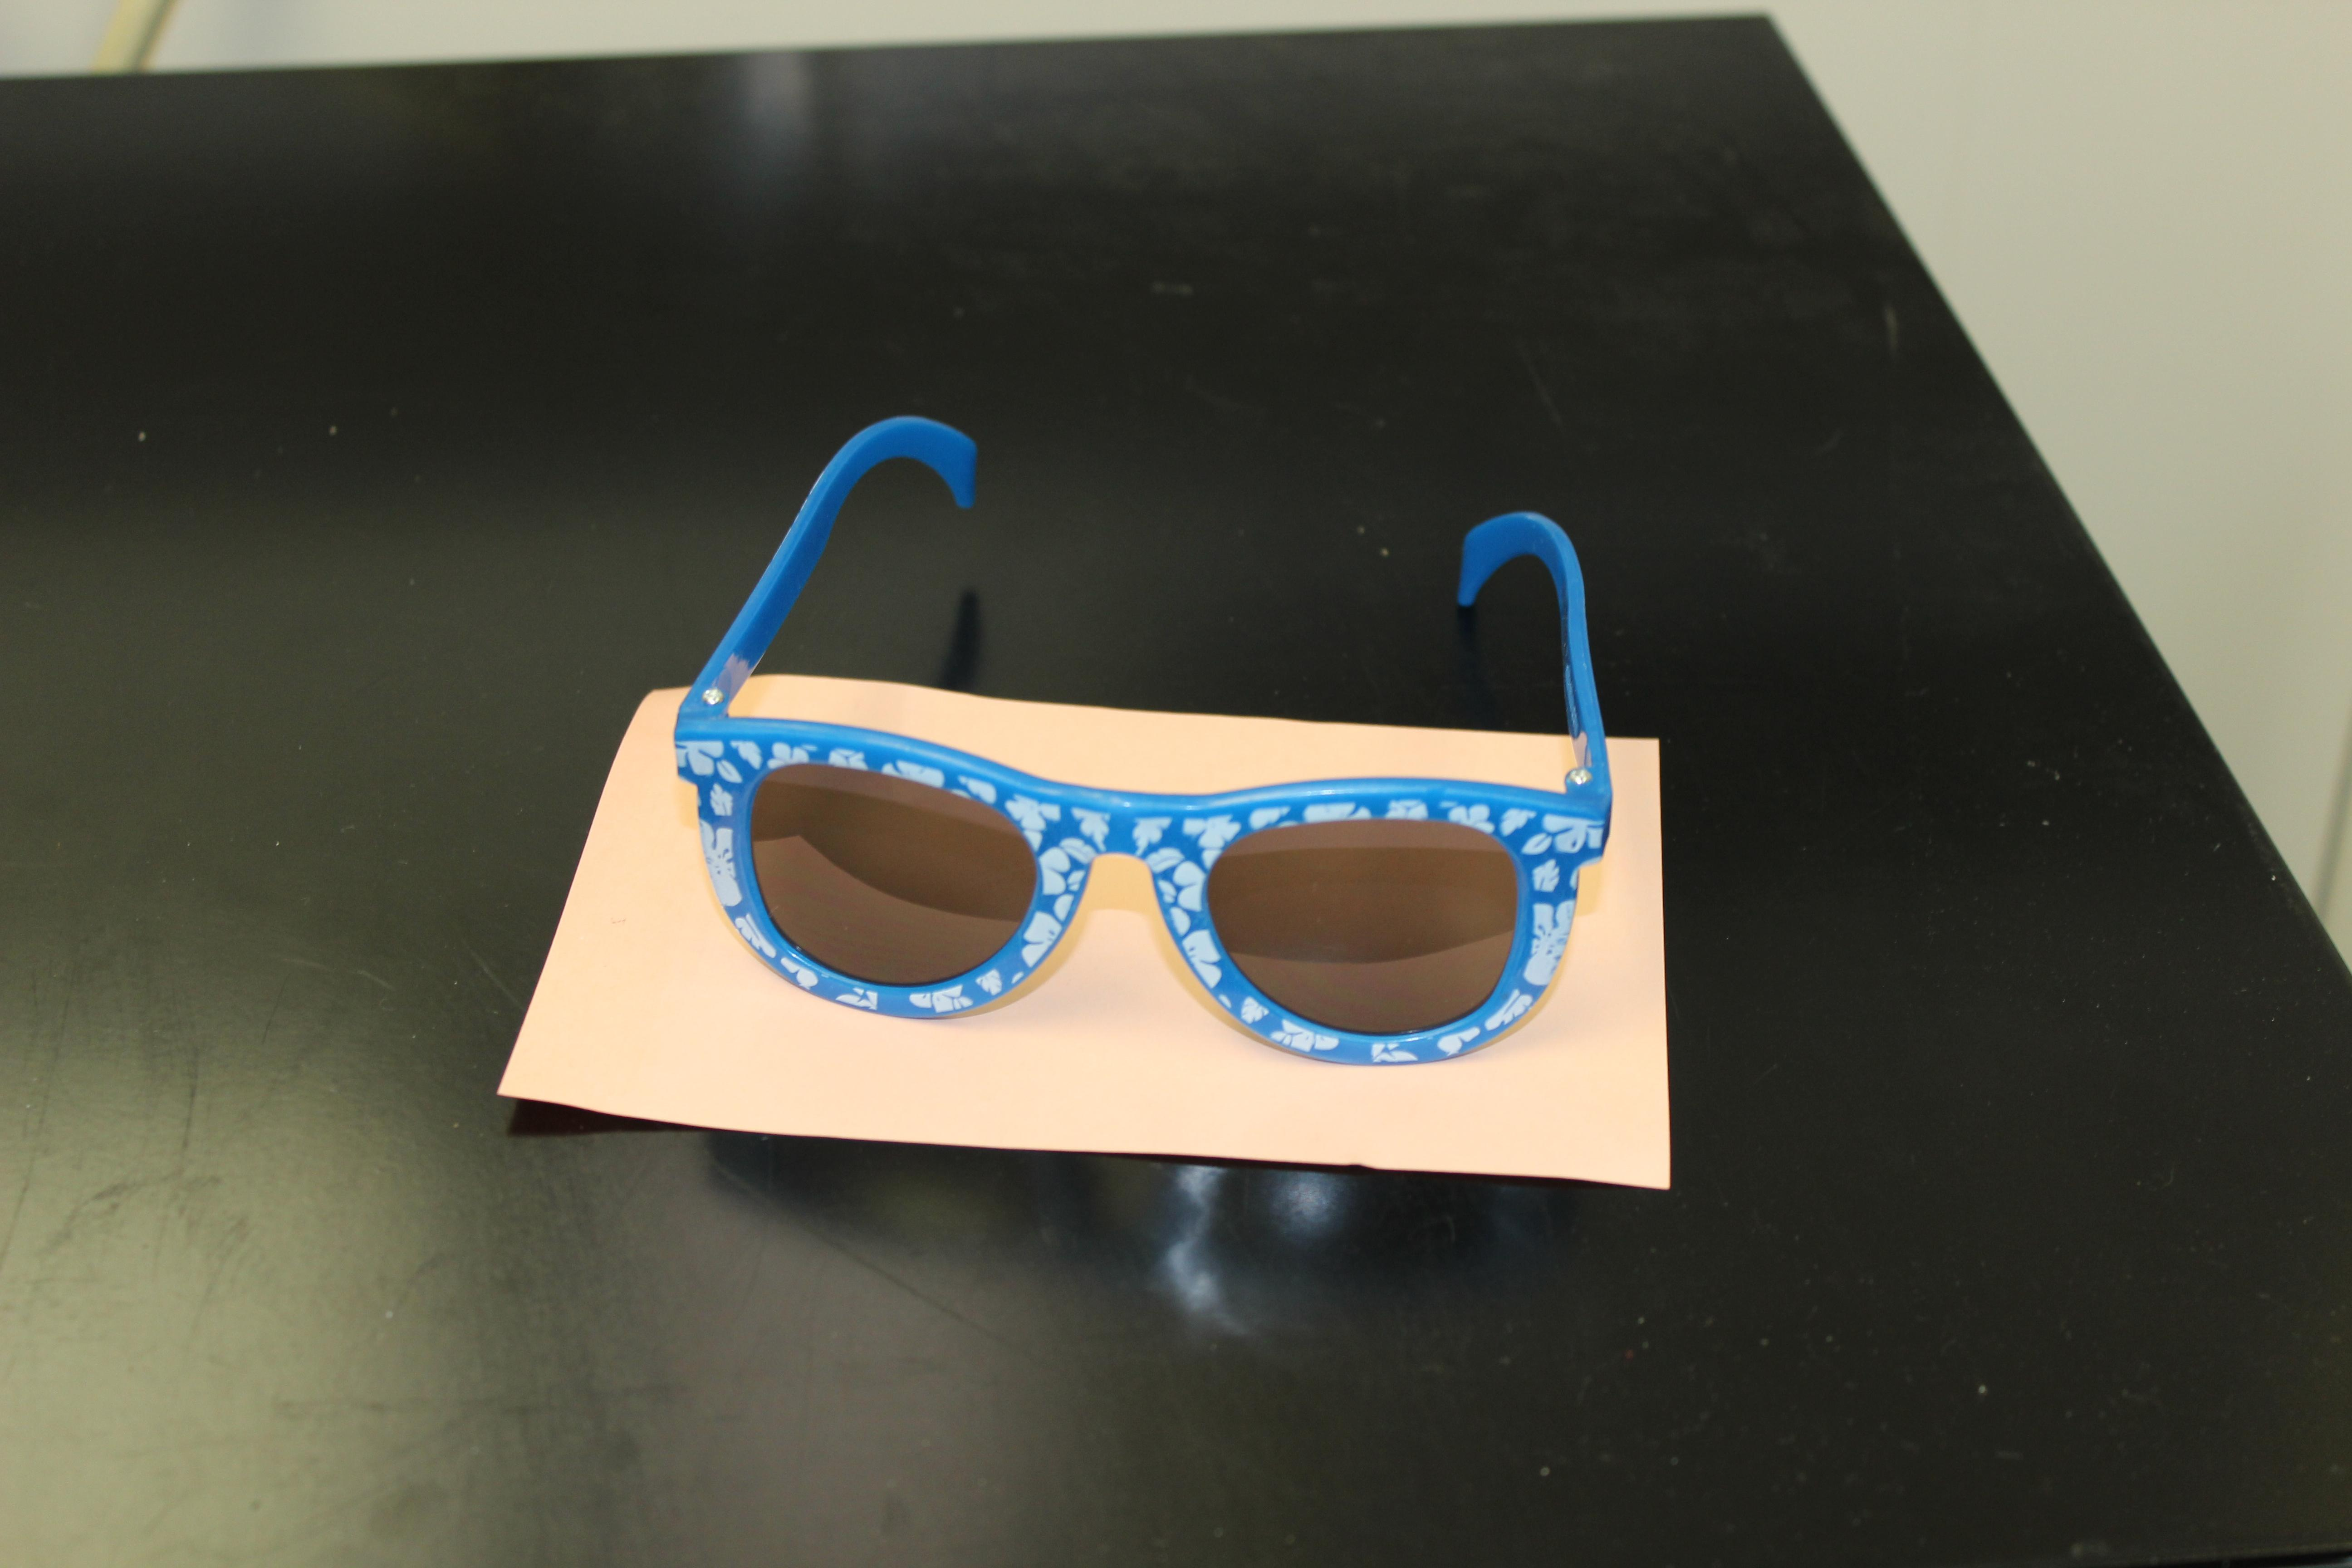blueSunglasses: (590, 396, 1689, 1081)
